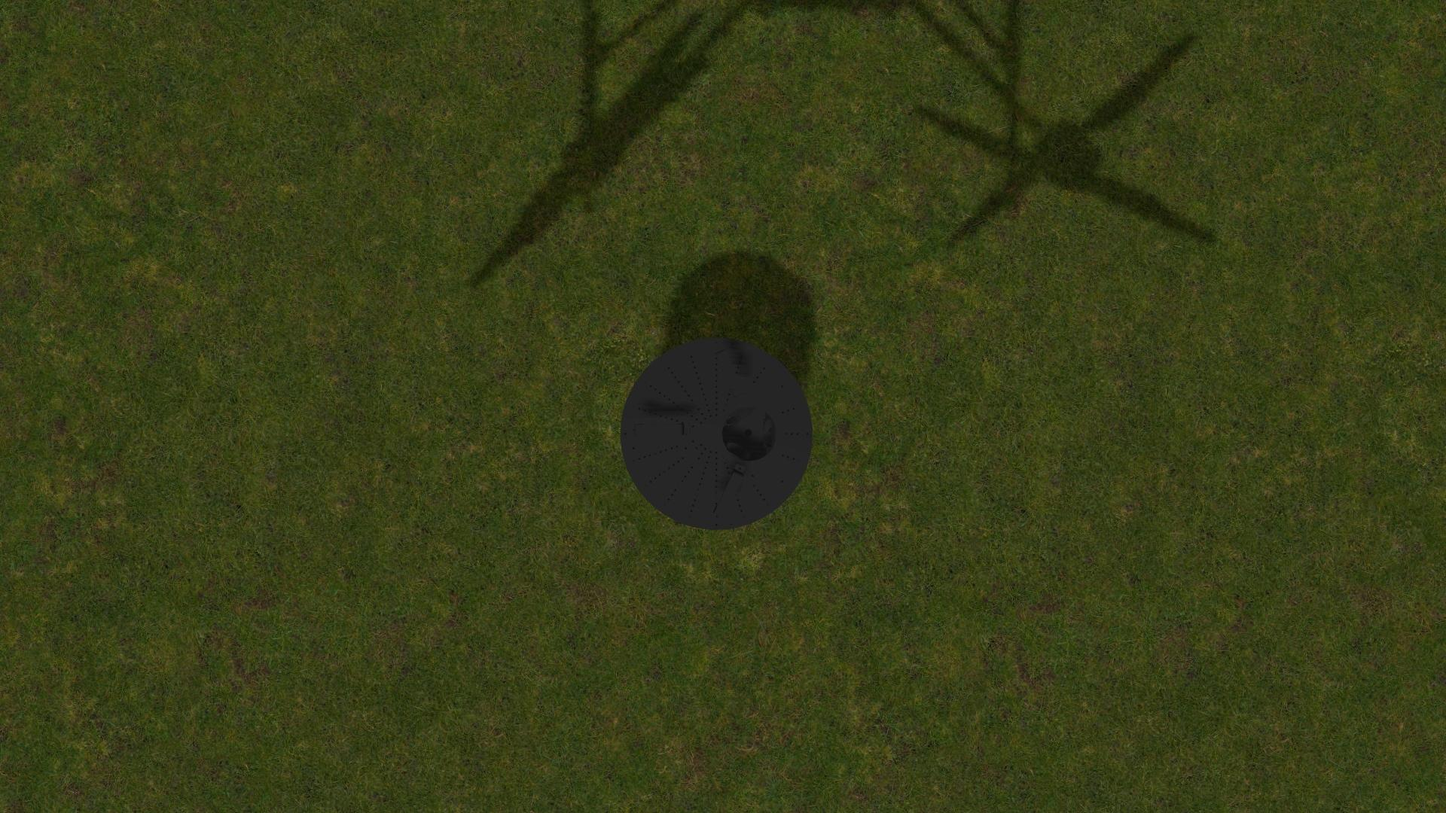alca: (712, 344, 747, 403), (711, 463, 746, 522), (631, 422, 690, 437)
armadilha: (620, 337, 813, 530)
